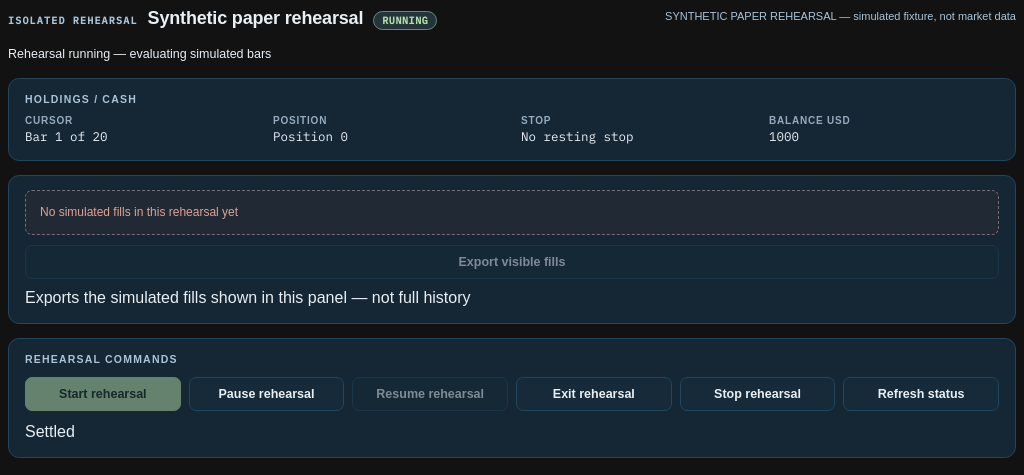
Scenario: rehearsal poll progress under finite slow reads › keeps Pause/Stop/Exit promptly usable while a poll read is slow and never lets the obsolete result roll back the command
This screenshot has width=1024, height=475.
Expected: the button with test id "rehearsal-command-stop" is enabled, [680,377,835,411]
Expected: the button with test id "rehearsal-command-exit" is enabled, [516,377,672,411]
Click the button with test id "rehearsal-command-pause" at (267, 394), box [189,377,344,411]
Wait 2100 ms
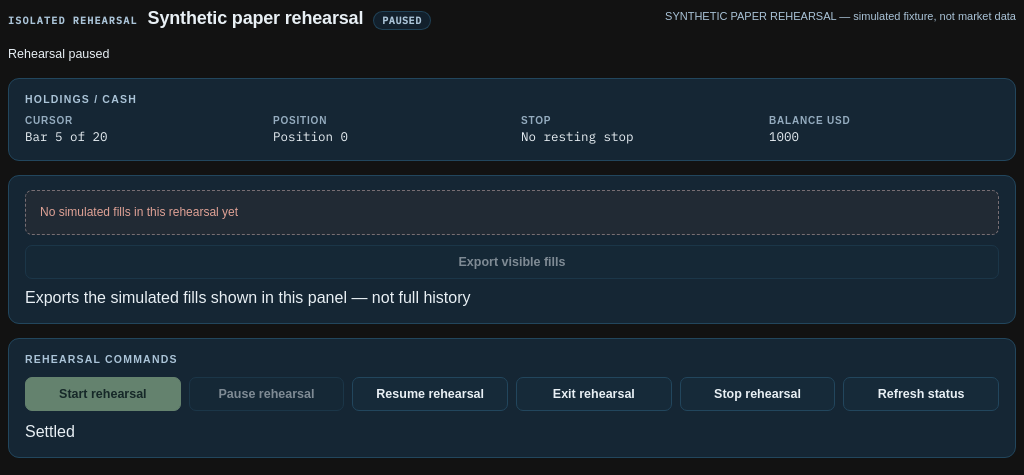
Now the text with test id "rehearsal-cursor" reads "Bar 5 of 20", box [25,128,108,144]
